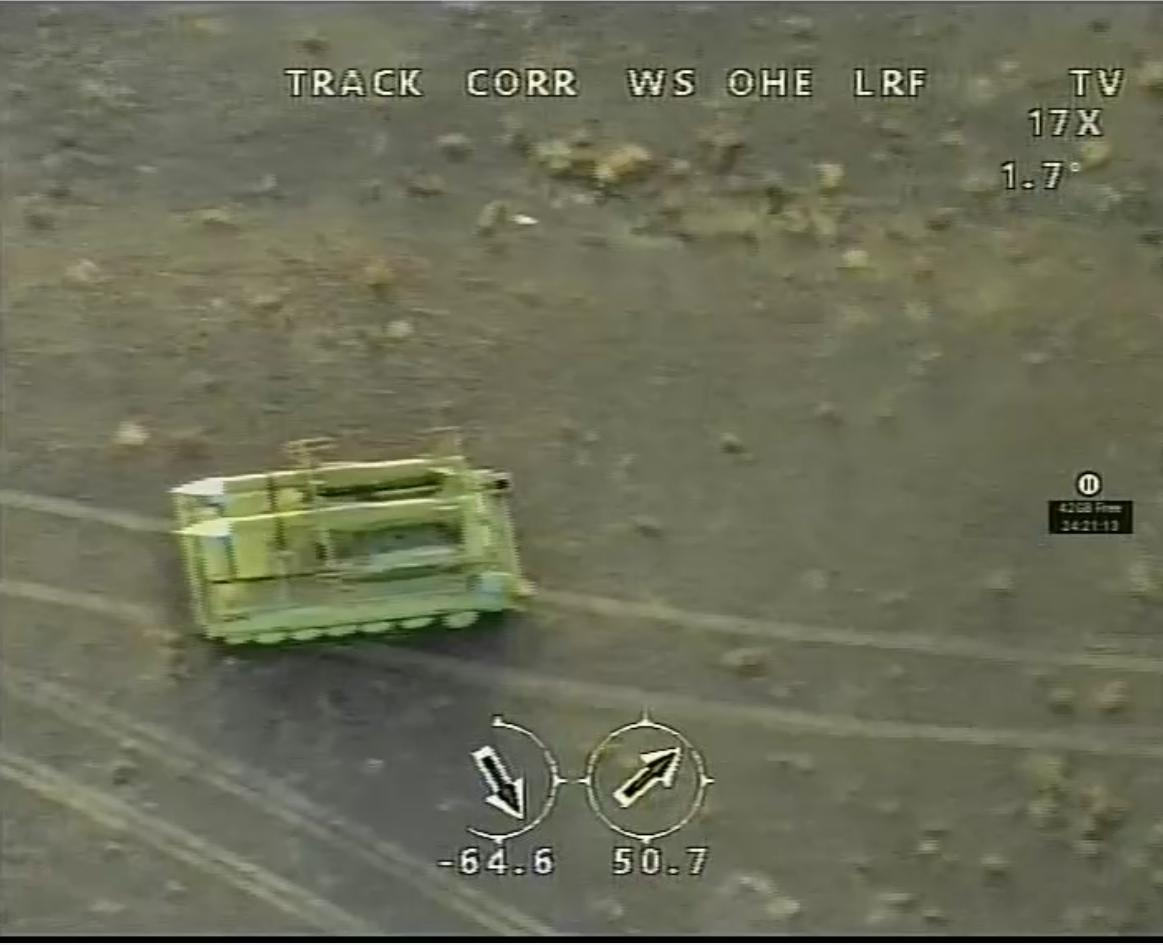armored_car: (166, 429, 537, 650)
